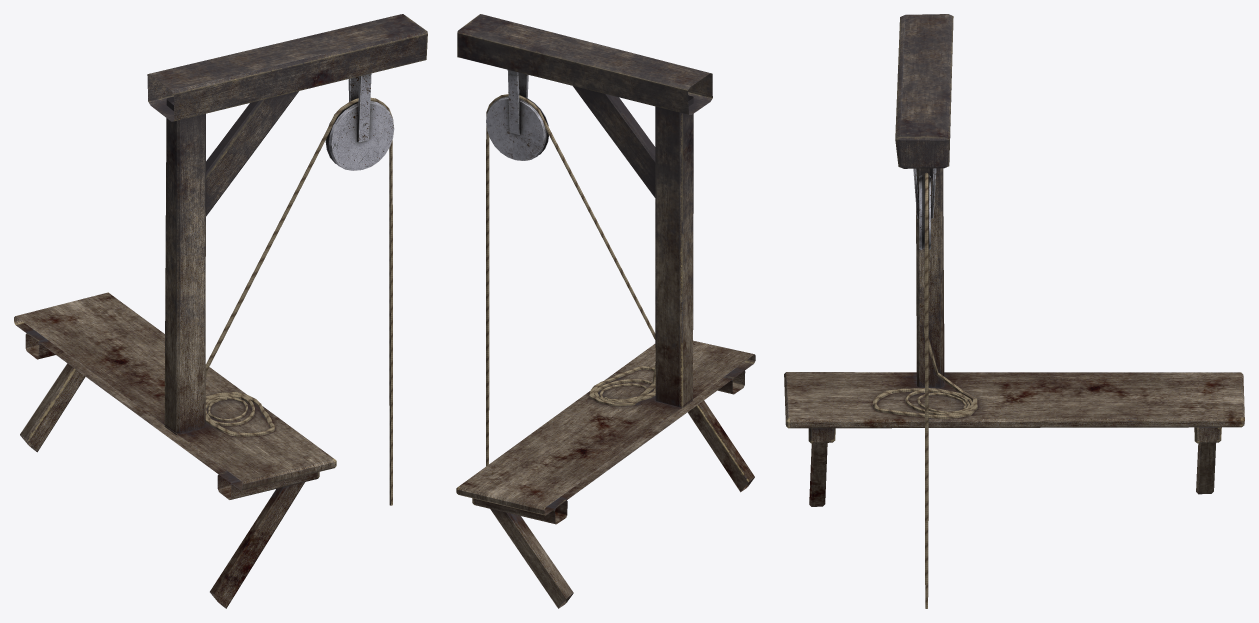
File: SM_Crane.fbx
3 renders of one model, left to right at view 1: azimuth 30°, elevation 25°; view 2: azimuth 150°, elevation 25°; view 3: azimuth 270°, elevation 25°, orthographic. The views are drawn at different scales.
Parts seen in each view (by area): view 1: SM_Crane_LOD0; view 2: SM_Crane_LOD0; view 3: SM_Crane_LOD0.
Boxes of the visible parts, x1,y1,x2,y2 form: SM_Crane_LOD0: [14, 14, 427, 608]; SM_Crane_LOD0: [456, 14, 755, 608]; SM_Crane_LOD0: [784, 14, 1244, 608].
Size of the model in its own units: 122 by 190 by 222.
1 material, 1 textured.
